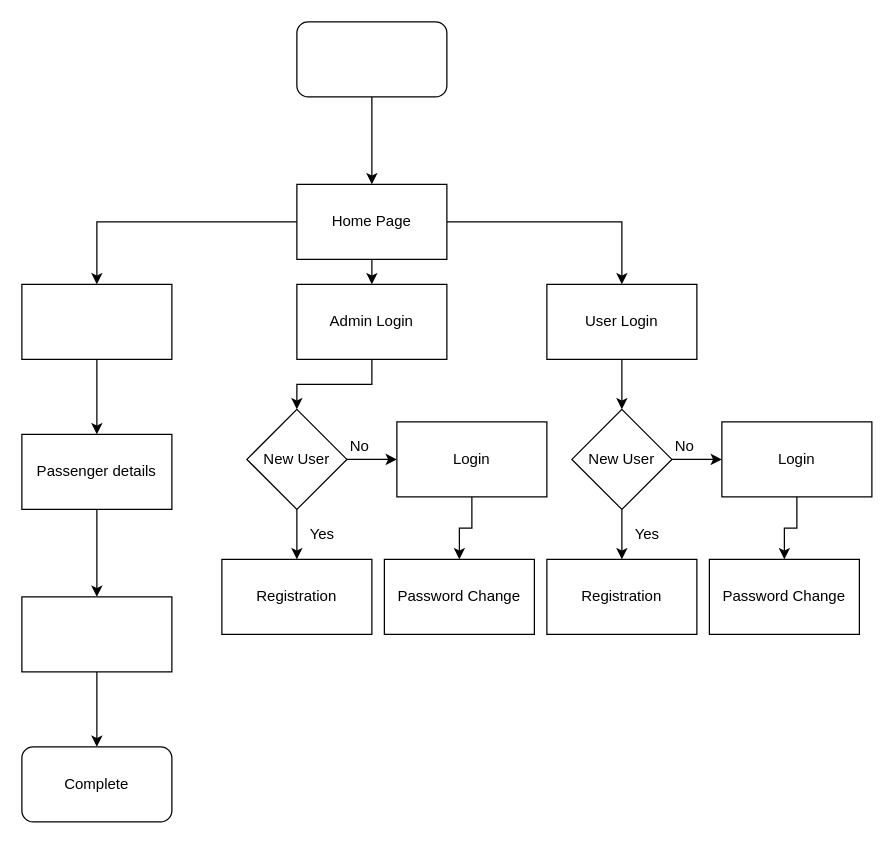
The diagram is 894 pixels wide and 844 high, and some of its shapes have lost their labels. The shapes that lost their labels are listed below. From the top down, each one's centre as x and y in pixels, then its label:
At point (371, 59): "START".
At point (96, 321): "Booking".
At point (96, 634): "Payment Page".
